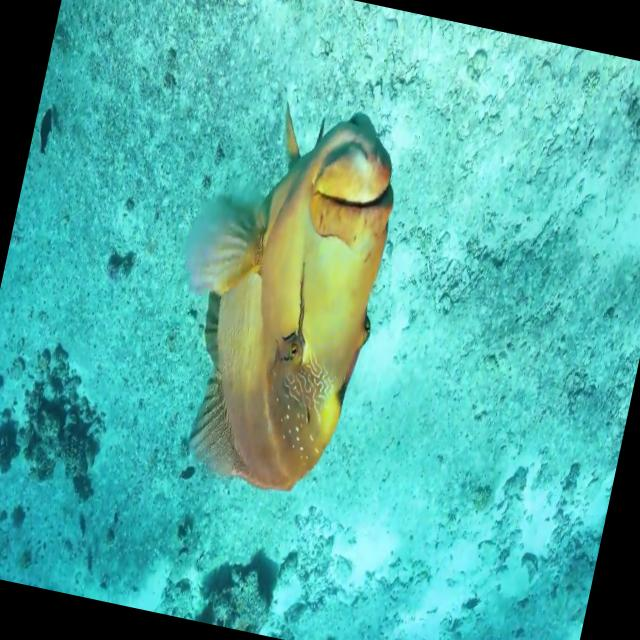fish: (134, 79, 426, 525)
